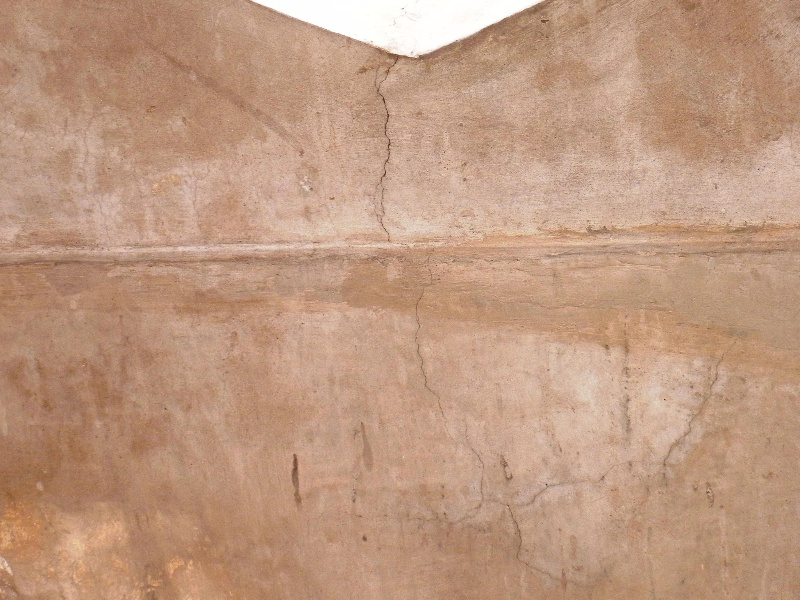Crack: (358, 53, 408, 245)
